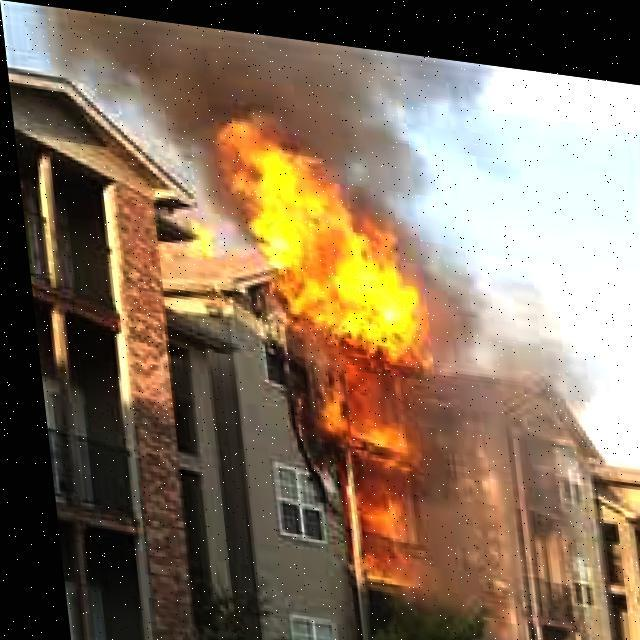Fire: (212, 106, 462, 362), (272, 323, 463, 590)
